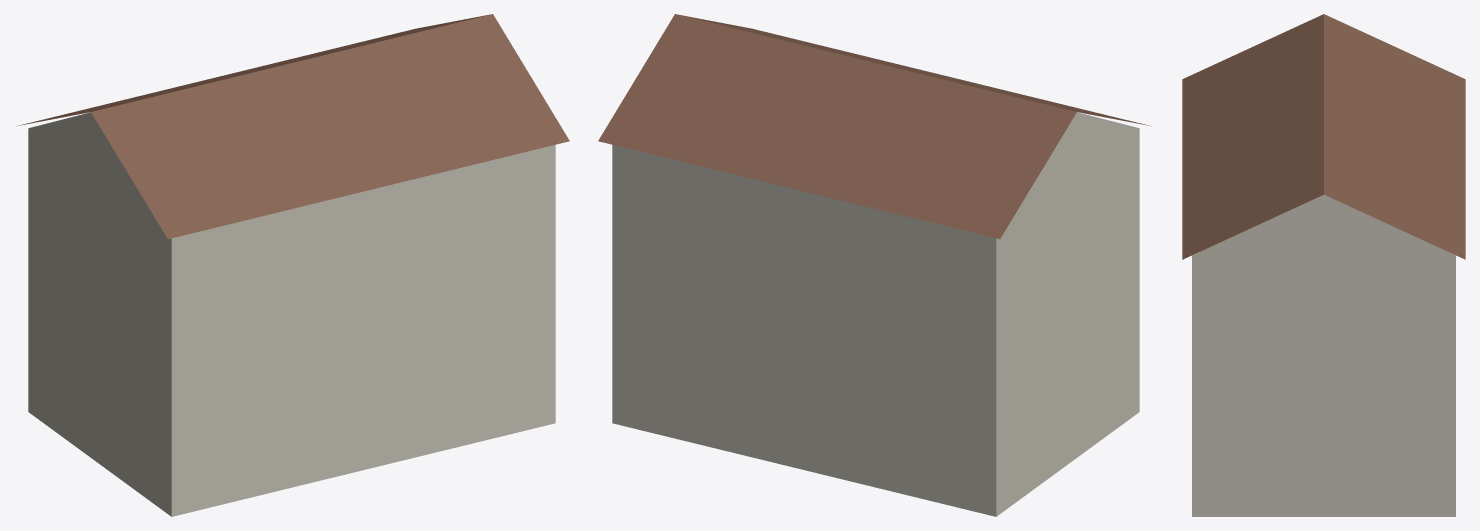
The model's file is House_2_LOD3.glb.
3 views of the same model, side by side, from view 1: azimuth 30°, elevation 25°; view 2: azimuth 150°, elevation 25°; view 3: azimuth 270°, elevation 25° (orthographic). The views are drawn at different scales.
Parts seen in each view (by area): view 1: House_2_LOD3; view 2: House_2_LOD3; view 3: House_2_LOD3.
Part boxes in pixels (bbox=[...]): House_2_LOD3: bbox=[16, 14, 569, 516]; House_2_LOD3: bbox=[598, 14, 1151, 516]; House_2_LOD3: bbox=[1182, 14, 1465, 516].
Size of the model in its own units: 17.8 by 15 by 11.8.
